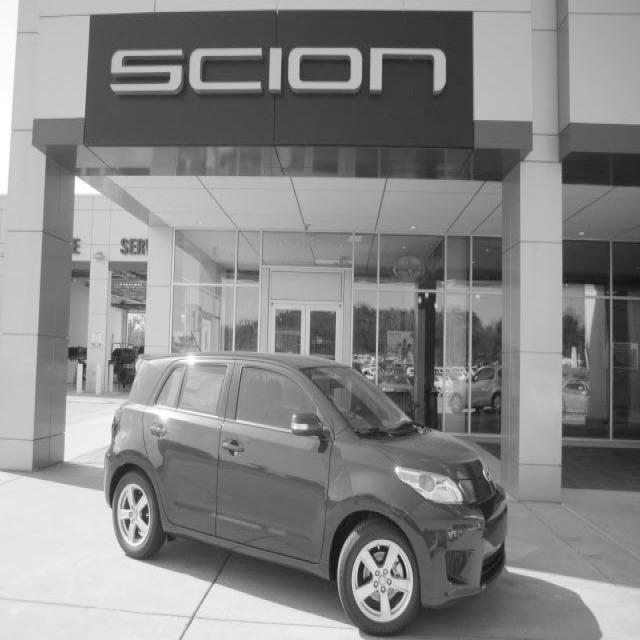car: (103, 349, 508, 635)
